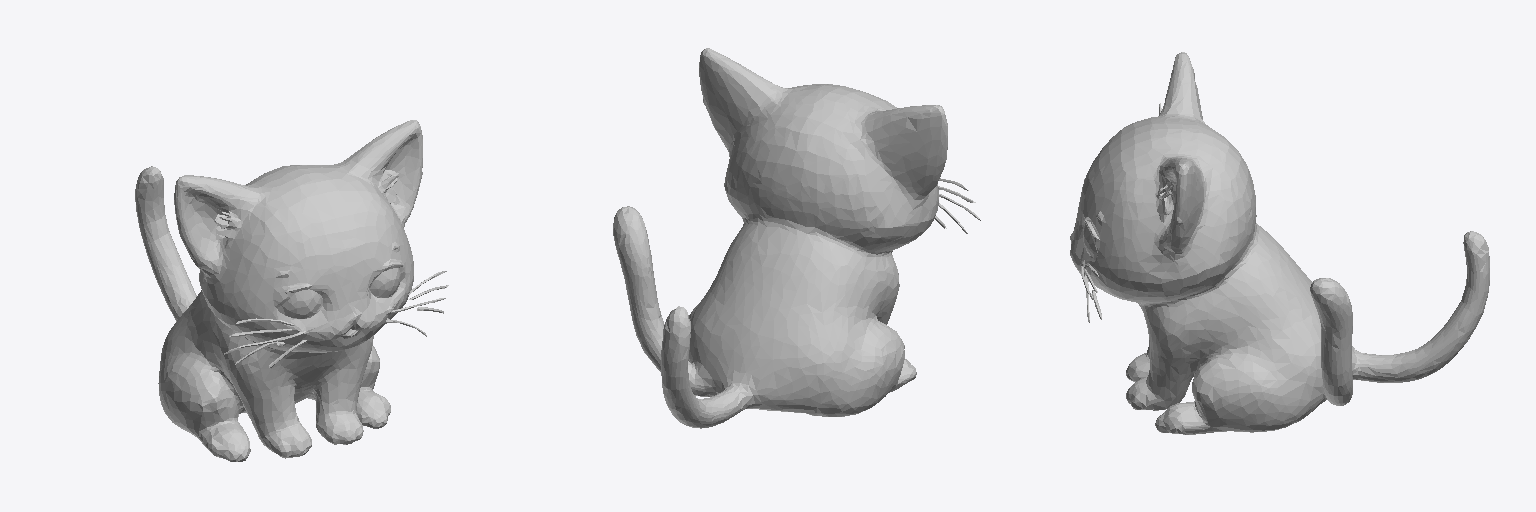
The model's file is Gato.obj.
The picture shows the model from 3 angles: view 1: azimuth 30°, elevation 25°; view 2: azimuth 150°, elevation 25°; view 3: azimuth 270°, elevation 25°; orthographic projection.
Visible parts, largest first — view 1: Mesh_0; view 2: Mesh_0; view 3: Mesh_0.
Boxes of the visible parts, <box> form: Mesh_0: <box>135,120,448,461</box>; Mesh_0: <box>613,48,980,428</box>; Mesh_0: <box>1070,52,1489,434</box>.
Bounding box in the file's own units: 1.43 × 1.52 × 2.